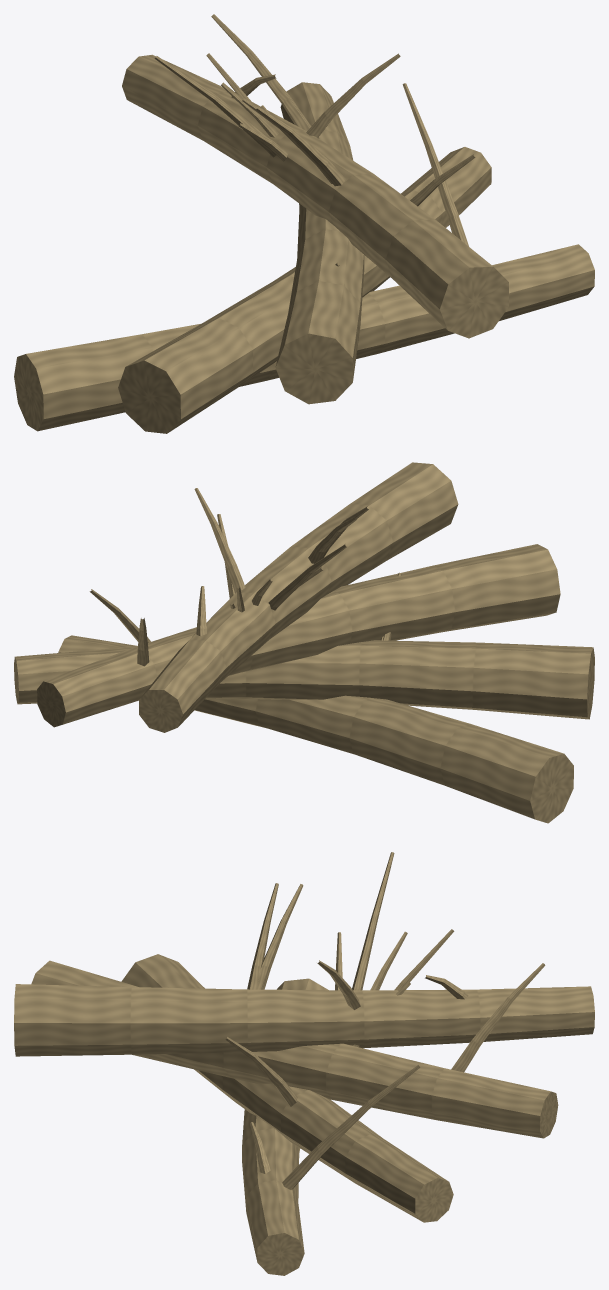
File: swamp_log_jam_swamp_and_mangrove_22654.glb
3 views of the same model, one above another, from view 1: azimuth 30°, elevation 25°; view 2: azimuth 150°, elevation 25°; view 3: azimuth 270°, elevation 25° (orthographic). The views are drawn at different scales.
Visible parts, largest first — view 1: log-jam; view 2: log-jam; view 3: log-jam.
Boxes of the visible parts, left/top/right/bottom form: log-jam: left=14, top=14, right=594, bottom=433; log-jam: left=14, top=462, right=594, bottom=823; log-jam: left=14, top=852, right=594, bottom=1275.
Size of the model in its own units: 2.83 by 1.46 by 2.83.
1 material, 1 textured.
